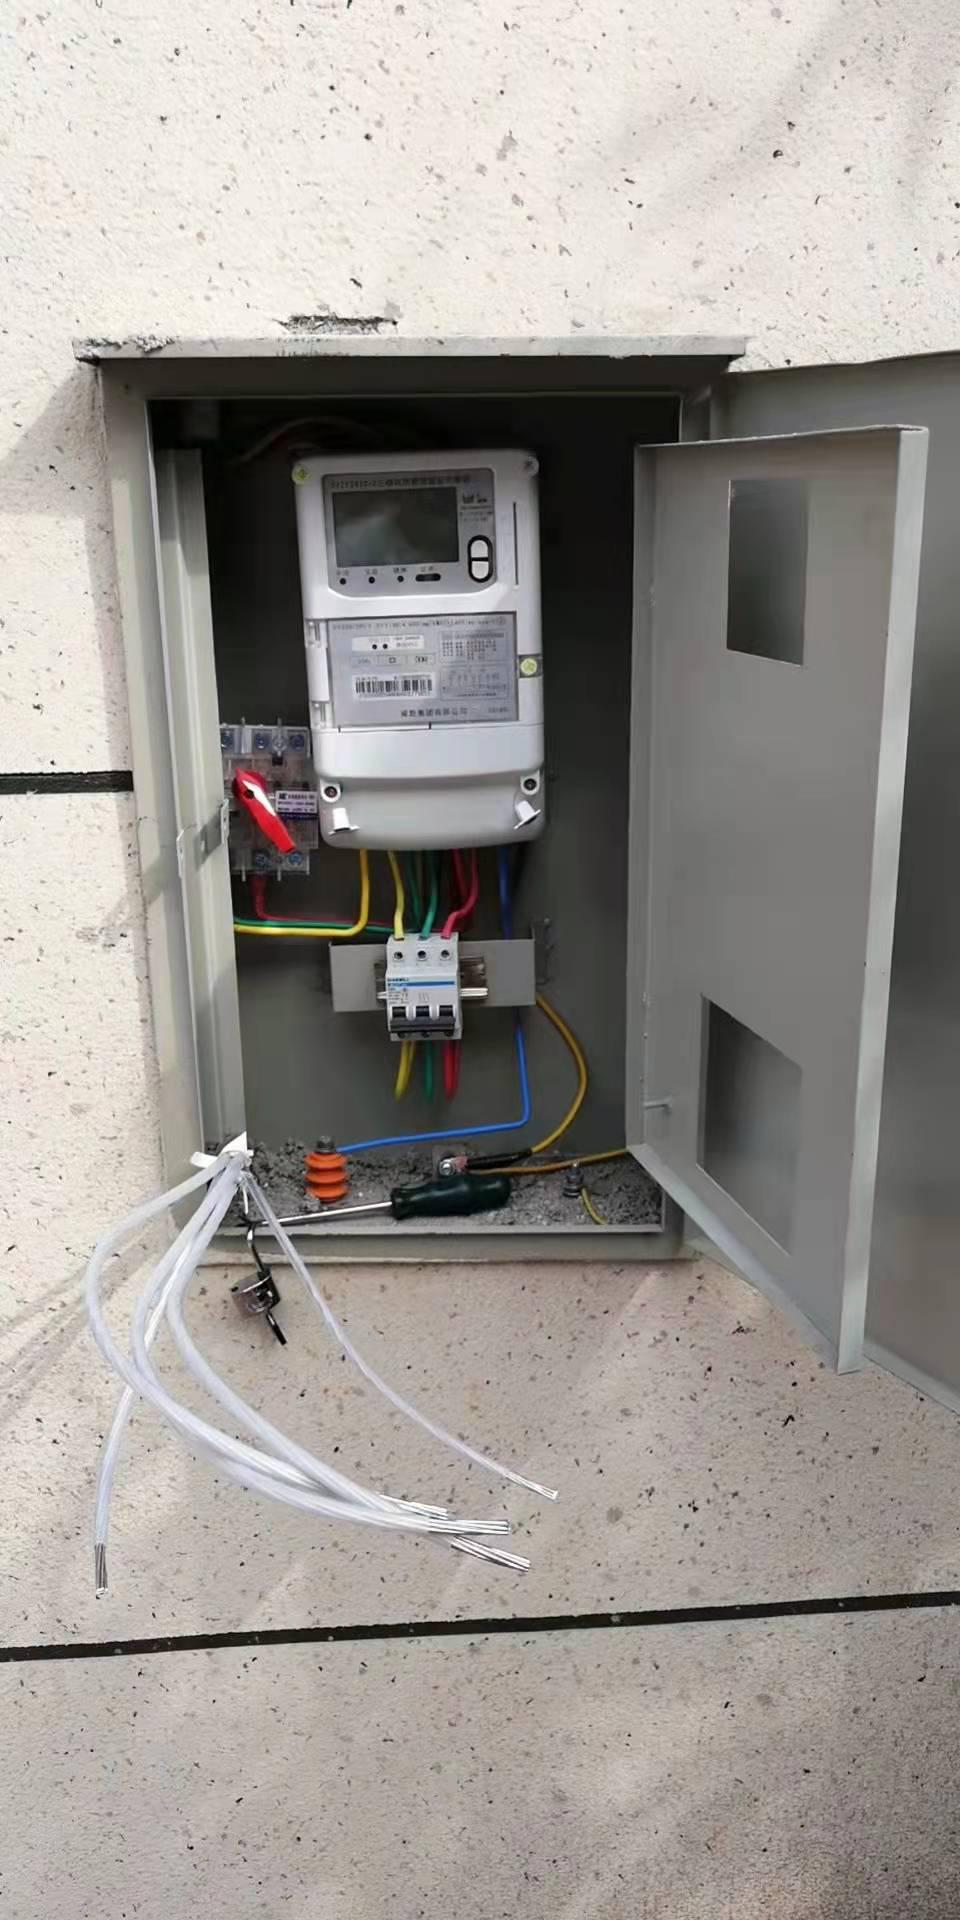digital: (301, 453, 549, 779)
